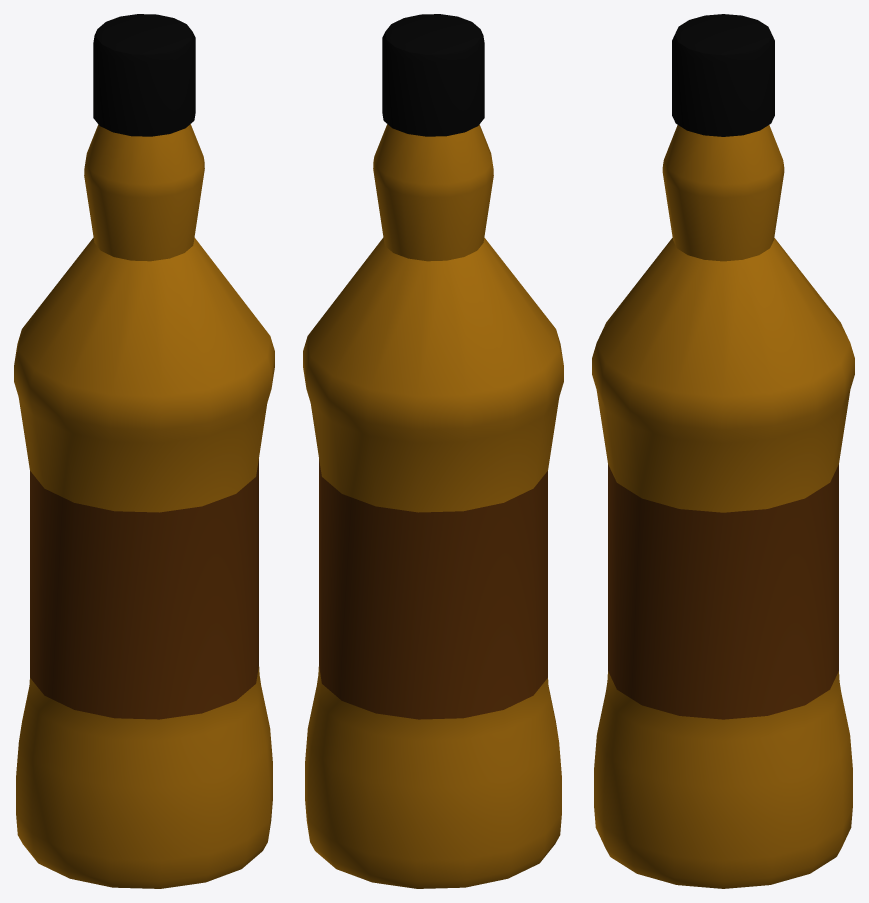
The model's file is sise.fbx.
3 views of the same model, side by side, from view 1: azimuth 30°, elevation 25°; view 2: azimuth 150°, elevation 25°; view 3: azimuth 270°, elevation 25° (orthographic).
Parts seen in each view (by area): view 1: Cylinder; view 2: Cylinder; view 3: Cylinder.
Part boxes in pixels (x1=…): Cylinder: x1=14, y1=14, x2=274, y2=888; Cylinder: x1=303, y1=14, x2=563, y2=888; Cylinder: x1=592, y1=14, x2=854, y2=888.
Size of the model in its own units: 208 by 705 by 208.
